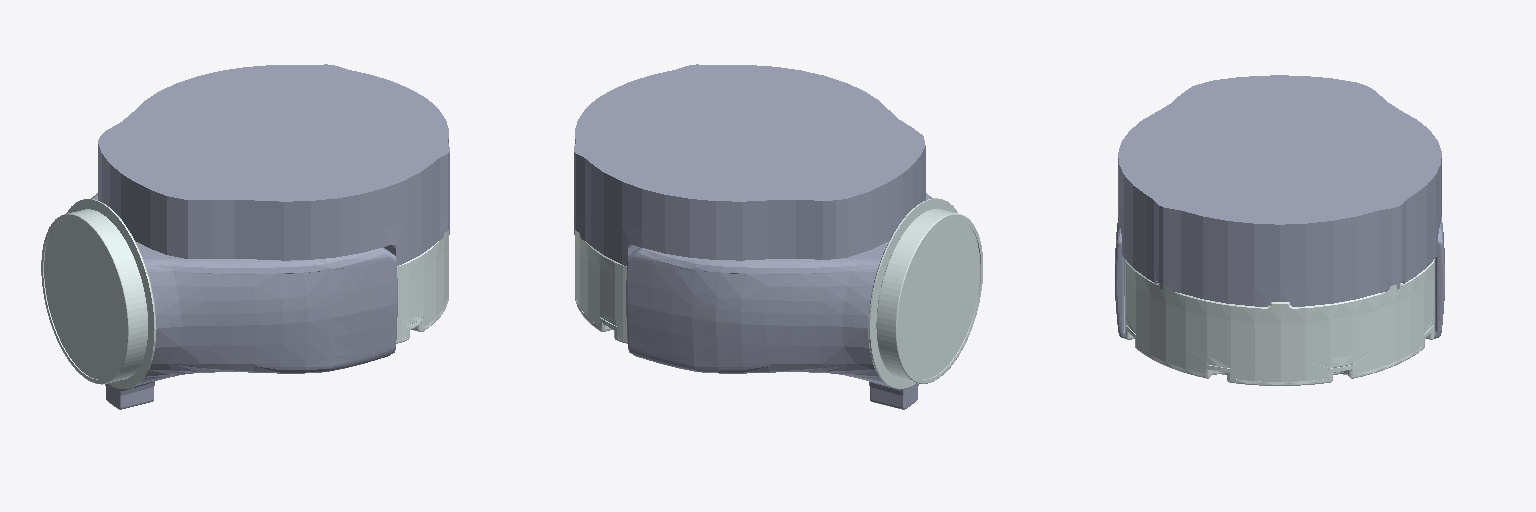
Rendered from hip.obj.
3 views of the same model, side by side, from view 1: azimuth 30°, elevation 25°; view 2: azimuth 150°, elevation 25°; view 3: azimuth 270°, elevation 25° (orthographic).
Visible parts, largest first — view 1: hipFL0831; view 2: hipFL0831; view 3: hipFL0831.
Part boxes in pixels (x1,y1,x2,y2): hipFL0831: (41, 64, 449, 409); hipFL0831: (574, 64, 982, 409); hipFL0831: (1115, 75, 1444, 385).
Size of the model in its own units: 0.1181 by 0.0756 by 0.0985.